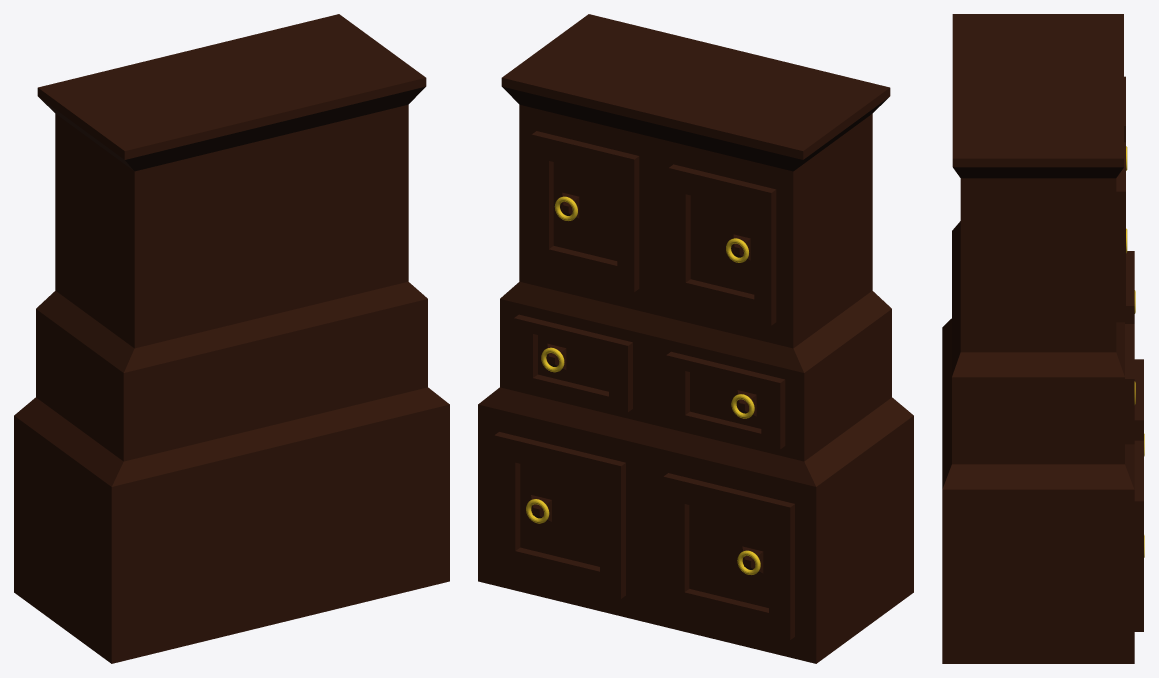
The model's file is Wardrobe.fbx.
The picture shows the model from 3 angles, left to right: view 1: azimuth 30°, elevation 25°; view 2: azimuth 150°, elevation 25°; view 3: azimuth 270°, elevation 25°; orthographic projection.
Visible parts, largest first — view 1: Wardrobe; view 2: Wardrobe; view 3: Wardrobe.
Part boxes in pixels (x1=…): Wardrobe: x1=14, y1=14, x2=449, y2=663; Wardrobe: x1=478, y1=14, x2=913, y2=663; Wardrobe: x1=942, y1=14, x2=1144, y2=663.
Bounding box in the file's own units: 2000 × 2850 × 1053.
